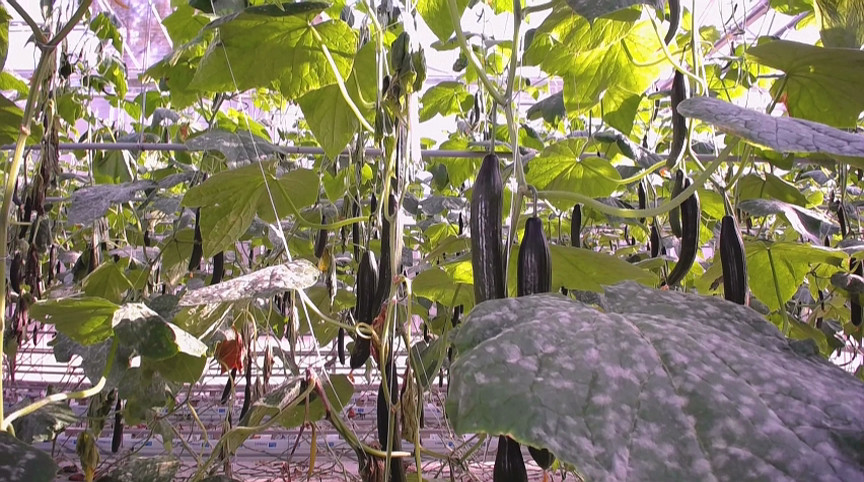cucumber: (469, 155, 510, 303), (667, 179, 699, 287), (350, 251, 378, 368), (721, 216, 754, 306), (517, 217, 553, 298), (667, 71, 691, 170), (492, 433, 529, 482), (110, 399, 127, 452), (210, 250, 227, 286)
